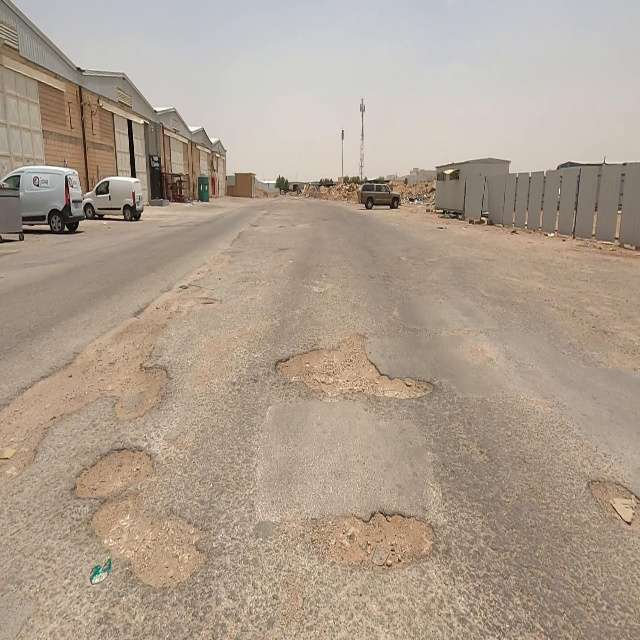pothole: (309, 513, 434, 567)
